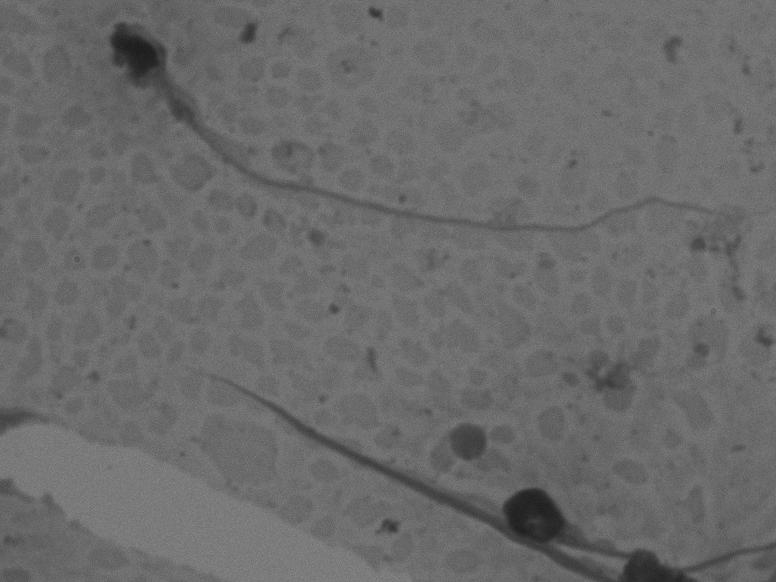Abnormal: (68, 2, 751, 307)
